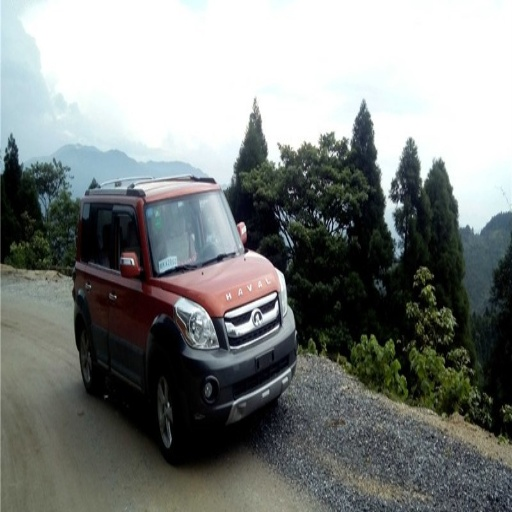front_bumper: (175, 295, 296, 418)
front_right_door: (109, 204, 144, 381)
front_right_light: (176, 299, 219, 349)
